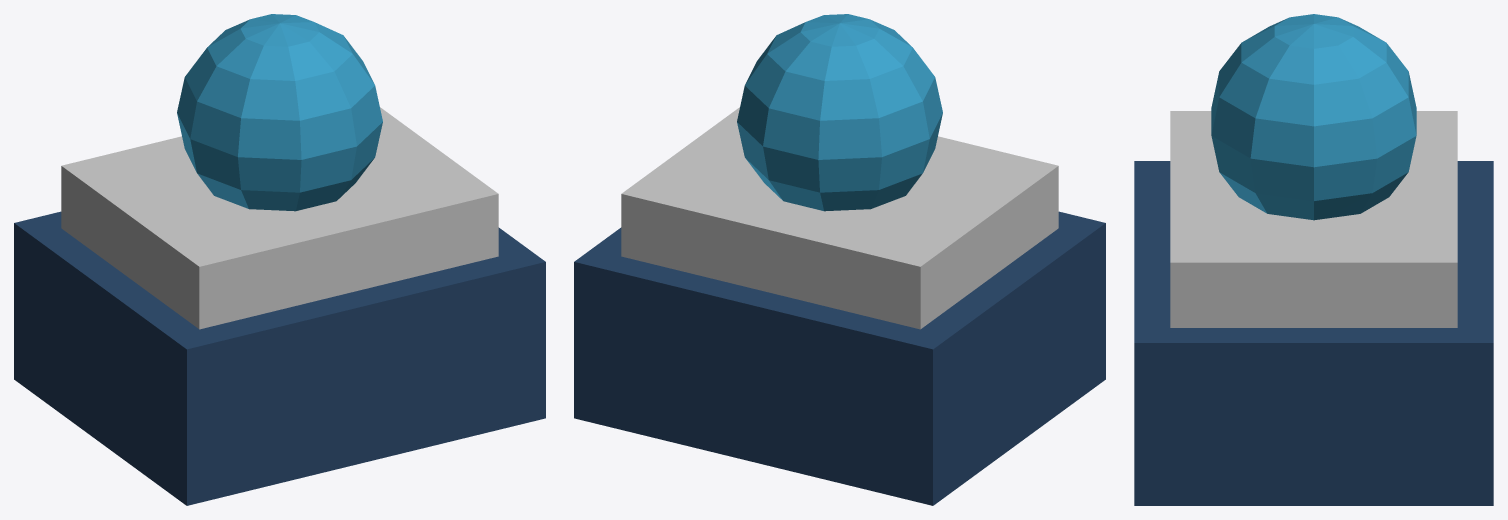
The model's file is shield_module.obj.
The picture shows the model from 3 angles, left to right: view 1: azimuth 30°, elevation 25°; view 2: azimuth 150°, elevation 25°; view 3: azimuth 270°, elevation 25°; orthographic projection. The views are drawn at different scales.
Visible parts, largest first — view 1: shield_module; view 2: shield_module; view 3: shield_module.
Boxes of the visible parts, left/top/right/bottom form: shield_module: left=14, top=14, right=545, bottom=505; shield_module: left=574, top=14, right=1105, bottom=505; shield_module: left=1134, top=14, right=1493, bottom=505.
Size of the model in its own units: 0.24 by 0.24 by 0.2.
